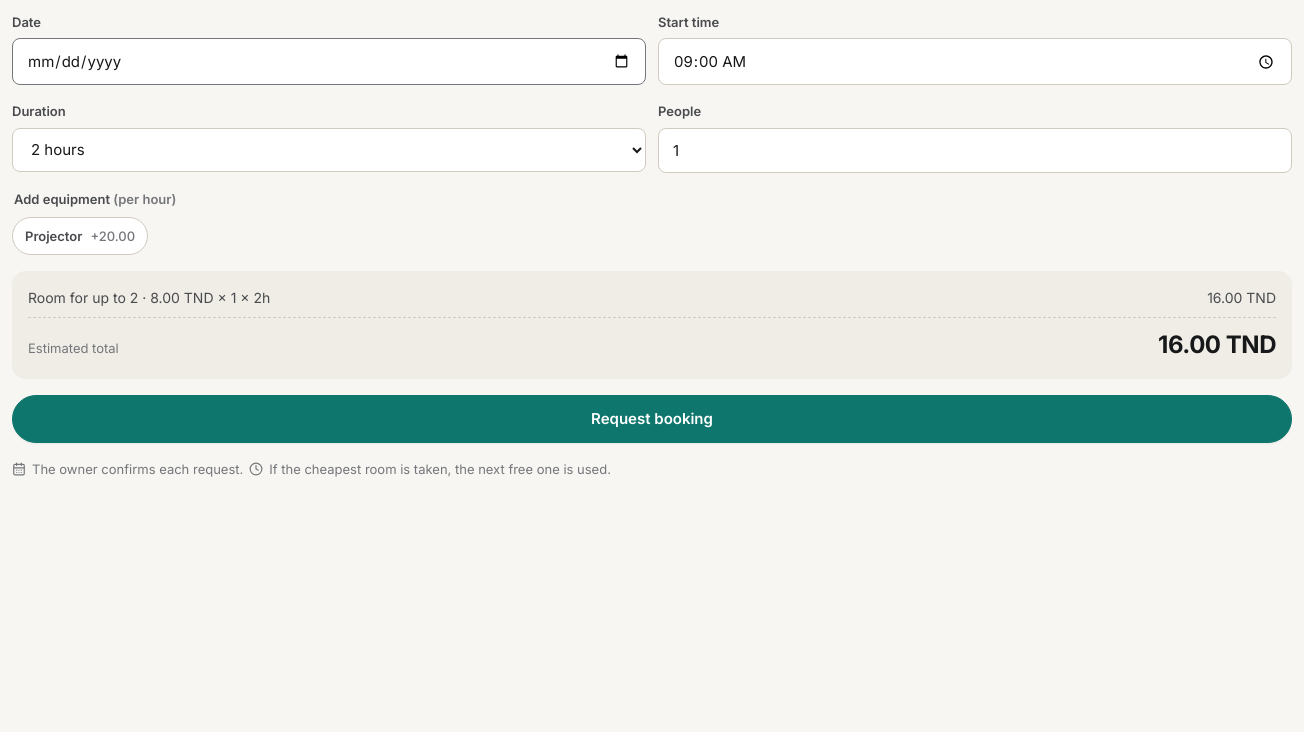
BookingForm › shows a live estimate that follows group size and equipment
Check: the element named "Estimated total" reads "16.00 TND", box x1=1158 y1=330 x2=1276 y2=359
Step 1. Replace the text in the number field labelled "People" with "4" → (975, 150), box x1=658 y1=128 x2=1292 y2=173
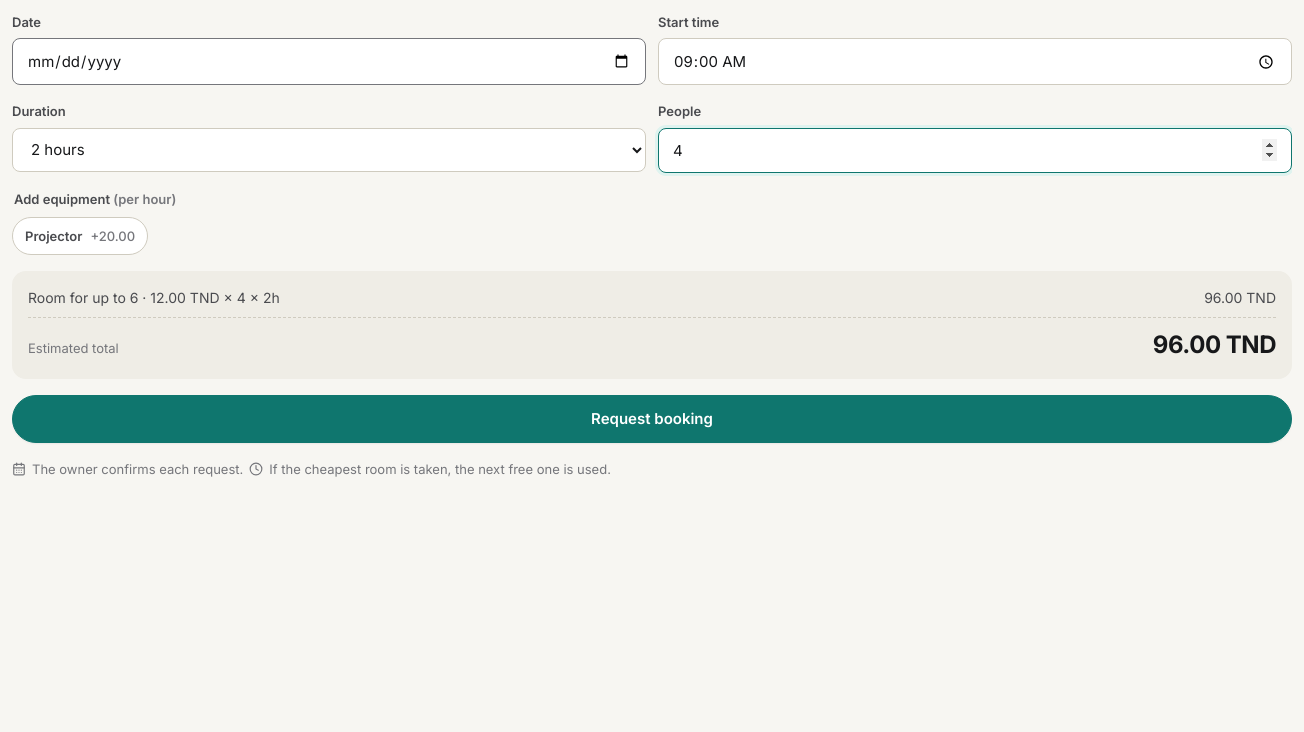
Check: the element named "Estimated total" reads "96.00 TND", box x1=1153 y1=330 x2=1276 y2=359
Step 2. Click the checkbox labelled "Projector +20.00" → (80, 236), box x1=12 y1=217 x2=148 y2=255
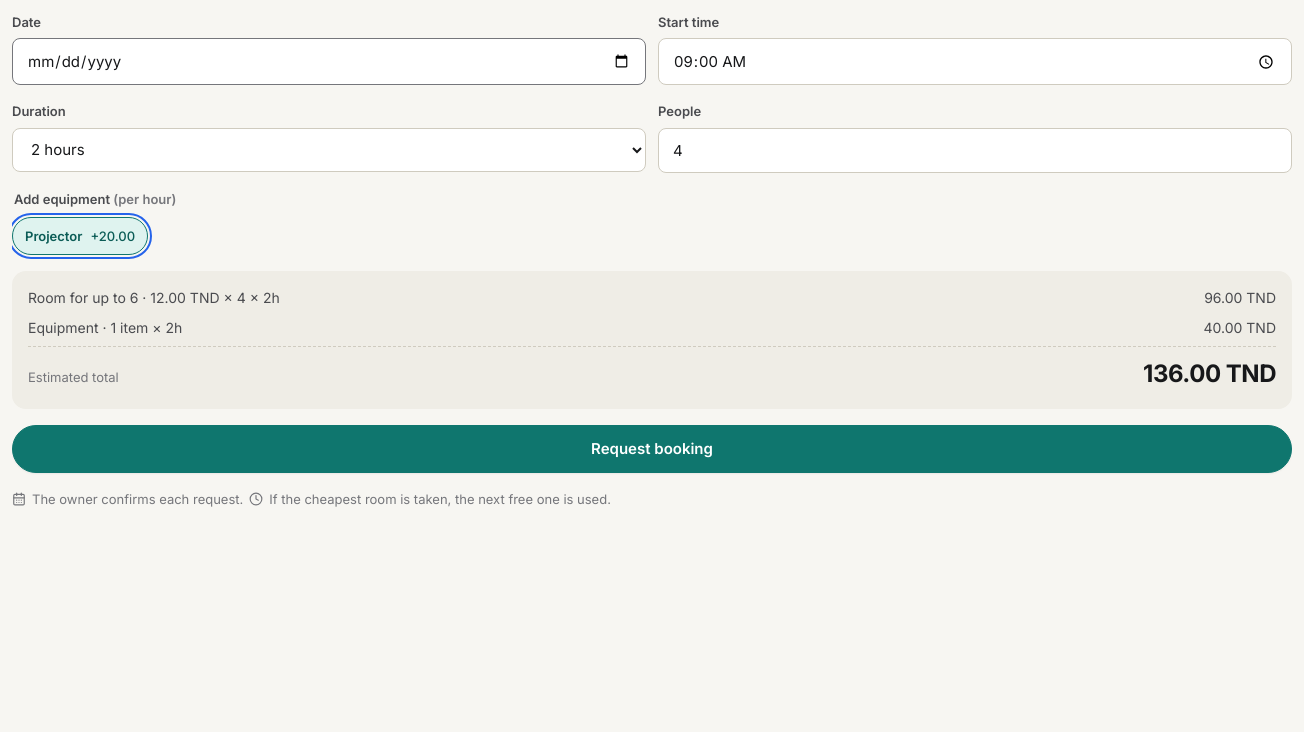
Check: the element named "Estimated total" reads "136.00 TND", box x1=1143 y1=359 x2=1276 y2=388
